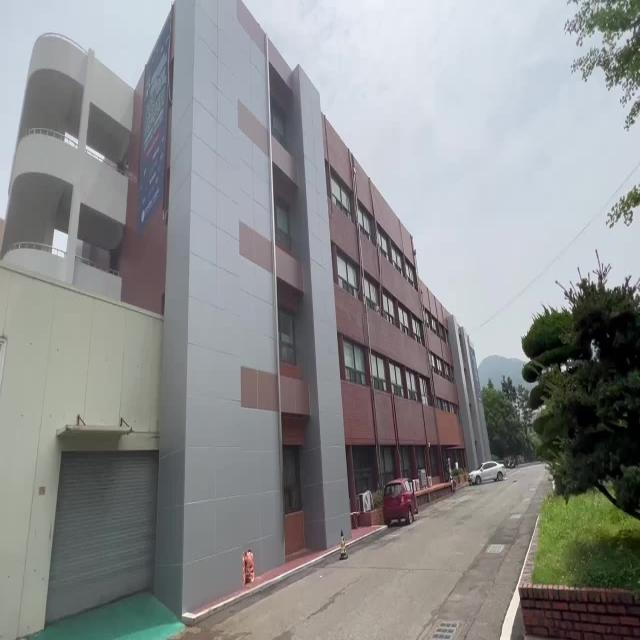building: (193, 108, 421, 444)
